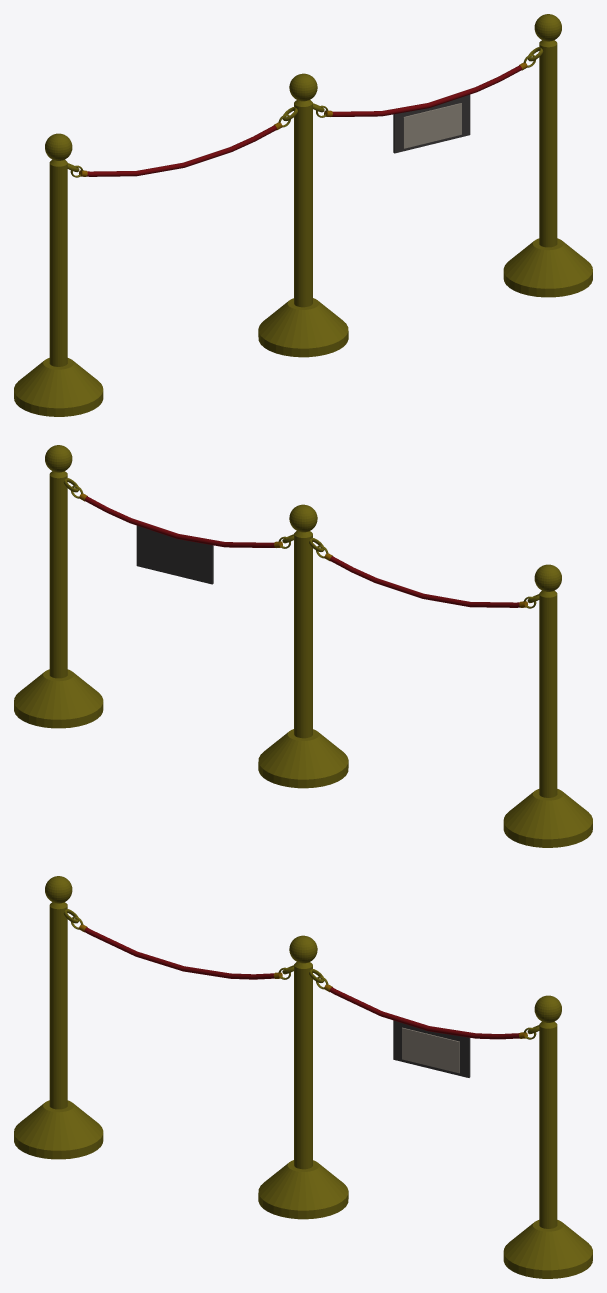
File: Museum_Fence2.fbx
3 renders of one model, top to bottom at view 1: azimuth 30°, elevation 25°; view 2: azimuth 150°, elevation 25°; view 3: azimuth 330°, elevation 25°, orthographic.
Parts seen in each view (by area): view 1: Circle.001, Circle.002, Cube.001, Cube, Cylinder.003, Cylinder.005; view 2: Circle.001, Circle.002, Cube, Cylinder.003, Cylinder.005; view 3: Circle.002, Circle.001, Cube.001, Cube, Cylinder.003, Cylinder.005.
Boxes of the visible parts, <box> form: Circle.001: <box>14,74,325,416</box>; Circle.002: <box>289,14,592,354</box>; Cube.001: <box>403,103,461,148</box>; Cube: <box>393,94,470,153</box>; Cylinder.003: <box>87,125,276,176</box>; Cylinder.005: <box>332,65,522,116</box>; Circle.001: <box>281,505,592,847</box>; Circle.002: <box>14,445,318,785</box>; Cube: <box>136,525,213,584</box>; Cylinder.003: <box>330,556,519,607</box>; Cylinder.005: <box>84,496,274,547</box>; Circle.002: <box>281,936,592,1278</box>; Circle.001: <box>14,876,317,1216</box>; Cube.001: <box>402,1027,459,1073</box>; Cube: <box>393,1020,470,1077</box>; Cylinder.003: <box>84,927,274,979</box>; Cylinder.005: <box>329,987,519,1039</box>.
Bounding box in the file's own units: 439 × 195 × 60.
